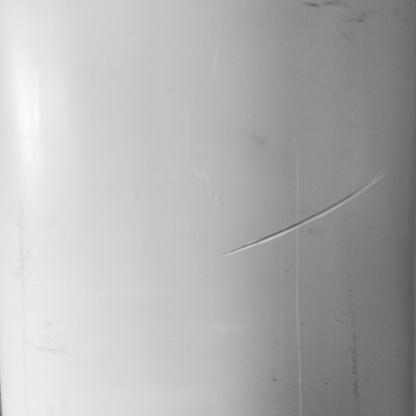sunshang: (216, 168, 387, 260)
